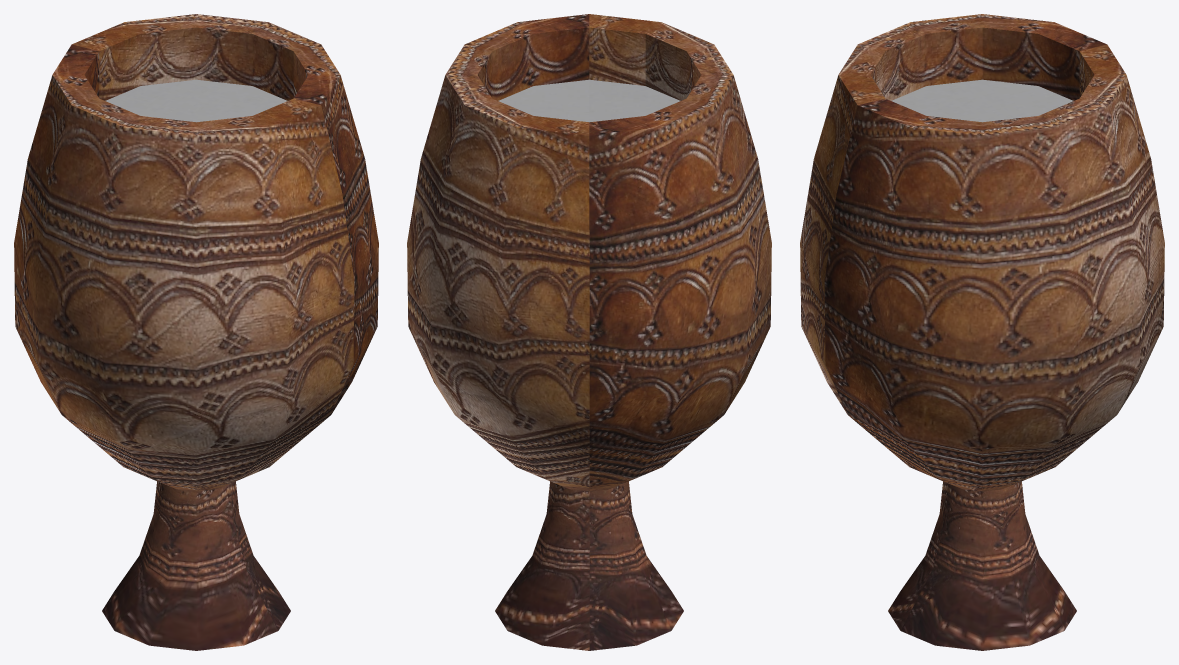
File: choroon.fbx
The picture shows the model from 3 angles, left to right: view 1: azimuth 30°, elevation 25°; view 2: azimuth 150°, elevation 25°; view 3: azimuth 270°, elevation 25°; orthographic projection.
Visible parts, largest first — view 1: Cylinder; view 2: Cylinder; view 3: Cylinder.
Part boxes in pixels (box(x1,y1,x2,y2)): Cylinder: box(14, 14, 378, 650); Cylinder: box(407, 14, 771, 650); Cylinder: box(800, 14, 1164, 650).
Size of the model in its own units: 242 by 392 by 242.
